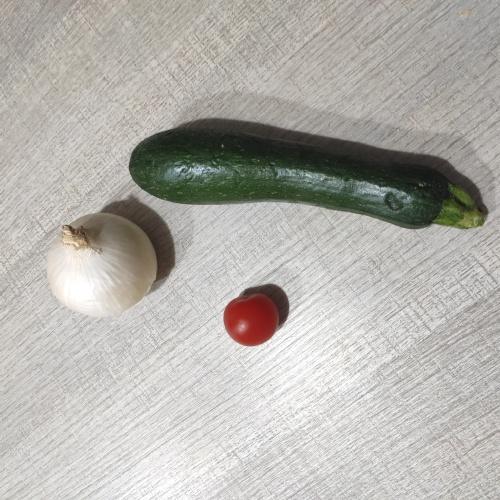cipolla: (43, 212, 171, 321)
pomodoro: (226, 293, 287, 347)
zucchine: (133, 117, 485, 224)
